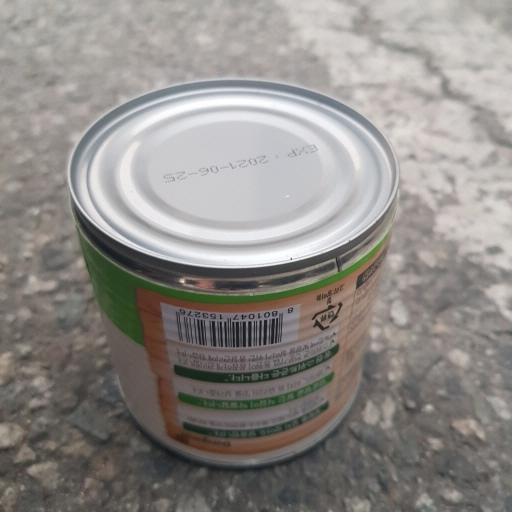Metal_1: (61, 77, 399, 470)
